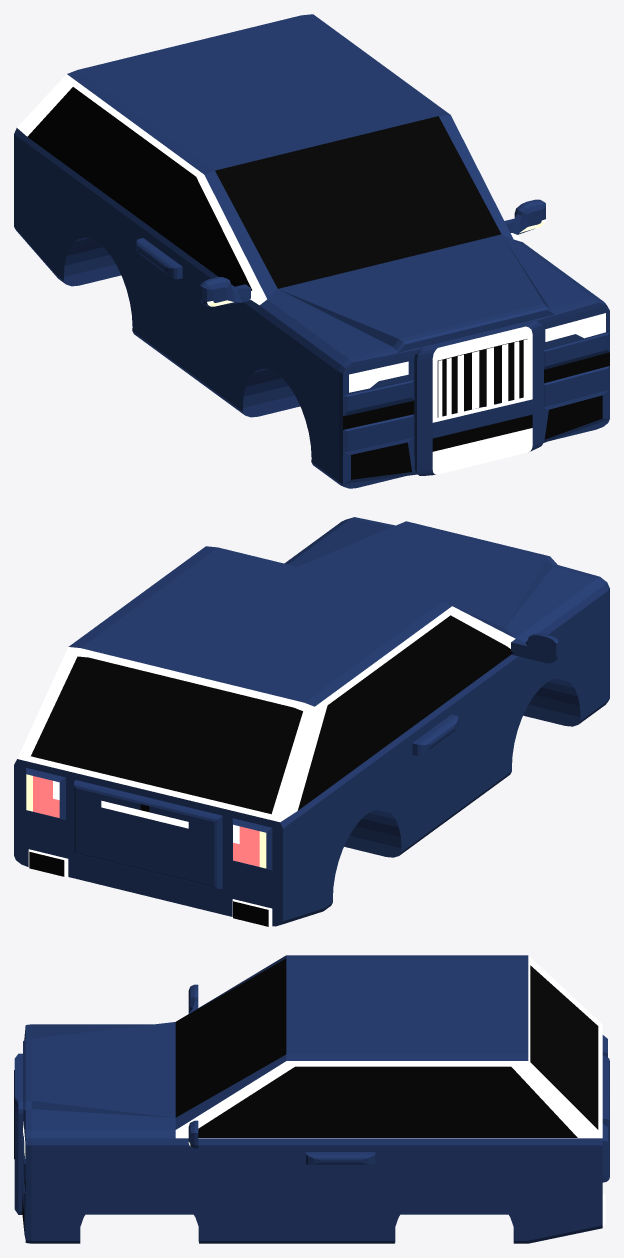
File: SuvBody.glb
The picture shows the model from 3 angles, top to bottom: view 1: azimuth 30°, elevation 25°; view 2: azimuth 150°, elevation 25°; view 3: azimuth 270°, elevation 25°; orthographic projection. The views are drawn at different scales.
Parts seen in each view (by area): view 1: SuvBody; view 2: SuvBody; view 3: SuvBody.
Part boxes in pixels (bbox=[...]): SuvBody: bbox=[14, 14, 609, 488]; SuvBody: bbox=[14, 517, 609, 926]; SuvBody: bbox=[14, 955, 609, 1243].
Size of the model in its own units: 3.57 by 2.07 by 6.1.
